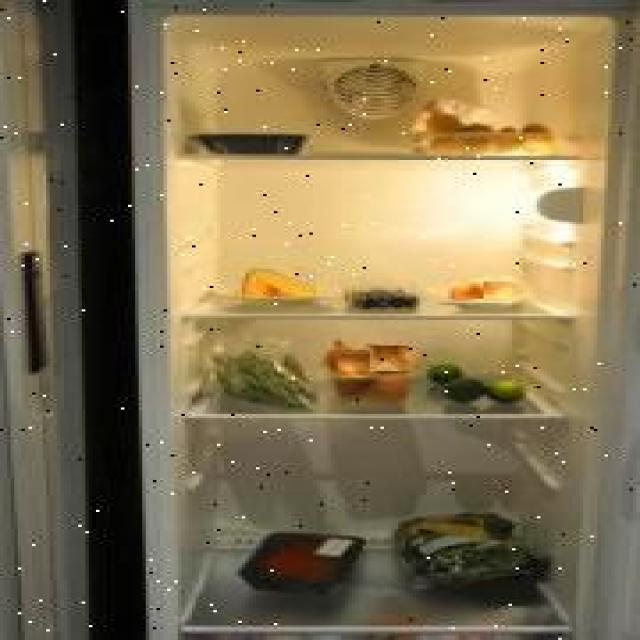cheese: (242, 270, 316, 300)
egg: (484, 282, 519, 300), (452, 282, 484, 300)
onion: (338, 350, 377, 377), (370, 347, 409, 372)
